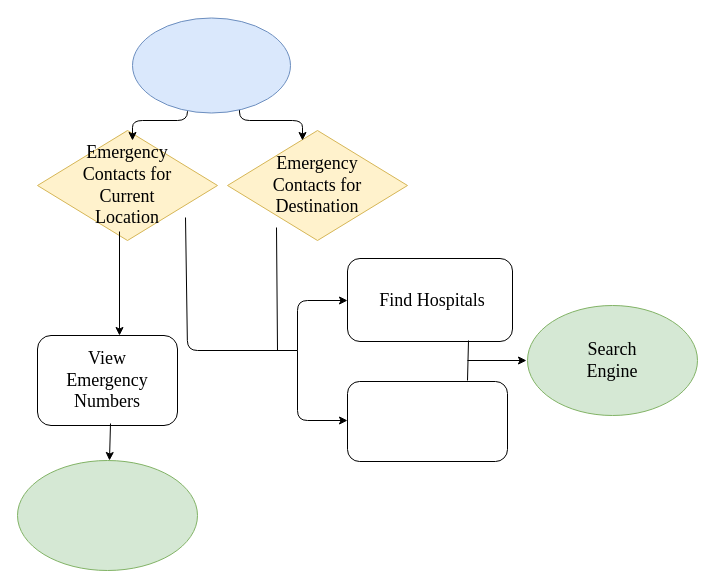
The diagram is 715 pixels wide and 588 high, and some of its shapes have lost their labels. The centre of each missing label's shape, as x and y in pixels:
"Emergencies Page" goes at pixel 211 65.
"Find Police Stations" goes at pixel 427 421.
"List of Emergency Contact Numbers" goes at pixel 107 515.
